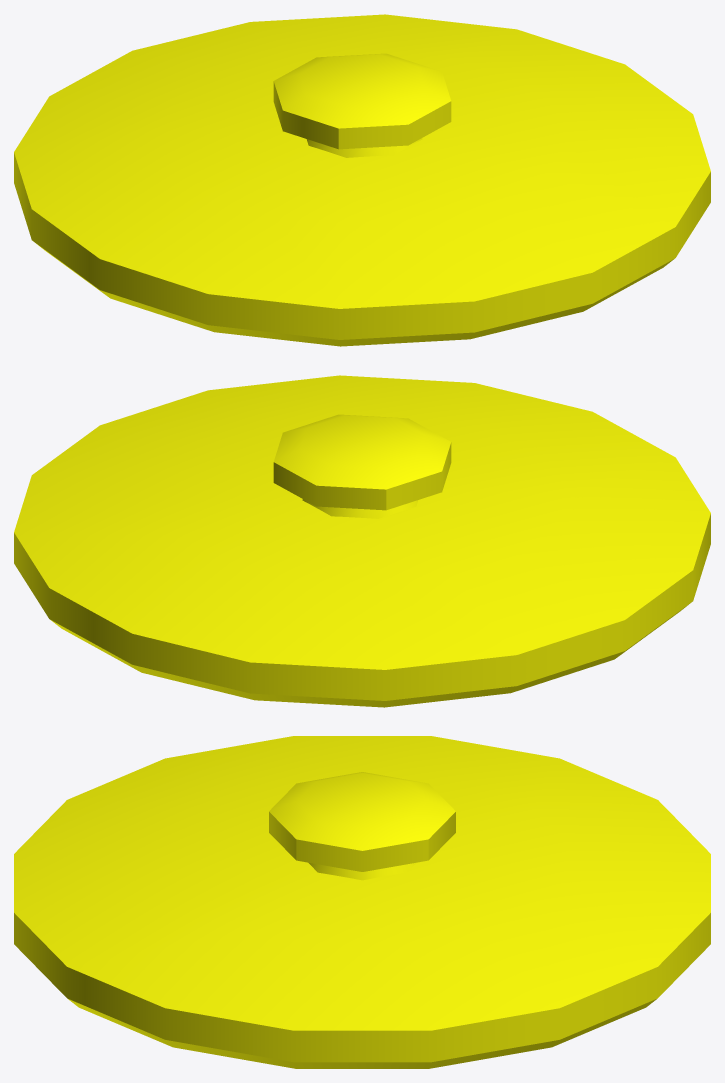
The model's file is kaykit-lid-b.glb.
3 renders of one model, top to bottom at view 1: azimuth 30°, elevation 25°; view 2: azimuth 150°, elevation 25°; view 3: azimuth 270°, elevation 25°, orthographic.
Visible parts, largest first — view 1: lid_B; view 2: lid_B; view 3: lid_B.
Part boxes in pixels (x1,y1,x2,y2): lid_B: (14, 14, 710, 346); lid_B: (14, 375, 710, 707); lid_B: (14, 736, 710, 1068).
Size of the model in its own units: 1 by 0.2003 by 1.
